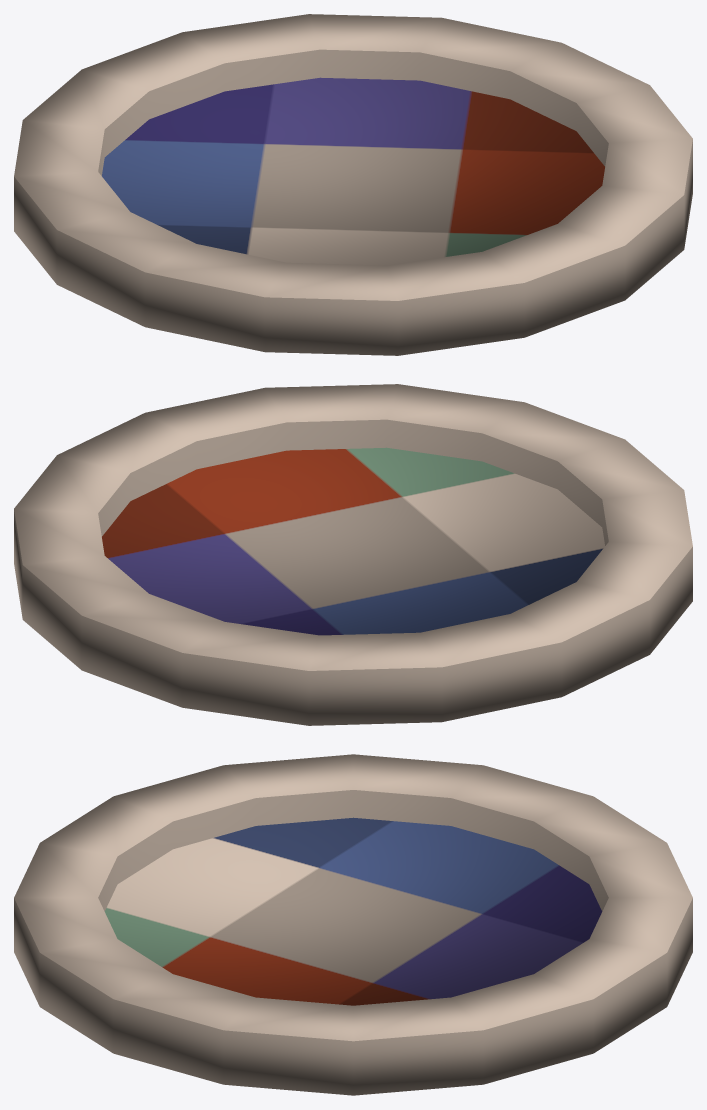
File: Bird's Dance Floor.fbx
3 renders of one model, top to bottom at view 1: azimuth 30°, elevation 25°; view 2: azimuth 150°, elevation 25°; view 3: azimuth 270°, elevation 25°, orthographic.
Parts seen in each view (by area): view 1: Bird Dance Floor; view 2: Bird Dance Floor; view 3: Bird Dance Floor.
Part boxes in pixels (x1,y1,x2,y2): Bird Dance Floor: (14, 14, 692, 355); Bird Dance Floor: (14, 384, 692, 725); Bird Dance Floor: (14, 754, 692, 1095).
Bounding box in the file's own units: 258 × 22.84 × 258.
